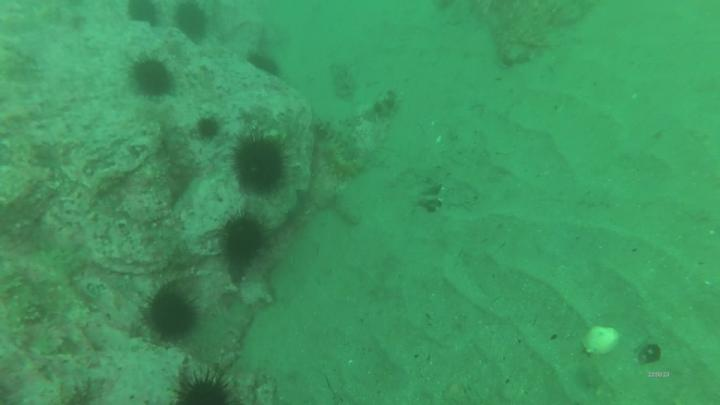echinus: (227, 132, 293, 197), (140, 285, 204, 348), (219, 213, 269, 267), (166, 371, 241, 405), (129, 54, 178, 101), (171, 1, 210, 46), (244, 49, 282, 78), (126, 1, 163, 30), (194, 113, 225, 145)
holothurian: (242, 208, 316, 283), (208, 312, 260, 378), (499, 1, 545, 69), (310, 136, 368, 181), (310, 115, 363, 163), (331, 182, 368, 231), (328, 61, 362, 100)
scallop: (579, 322, 625, 361)
